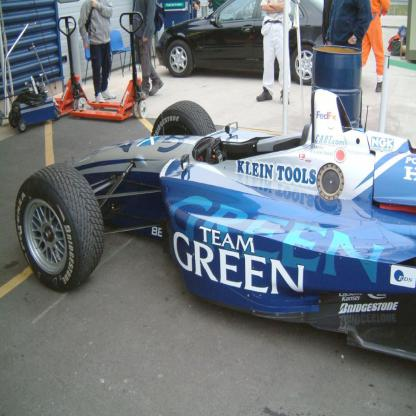Car: (15, 99, 416, 361), (153, 0, 325, 83)
